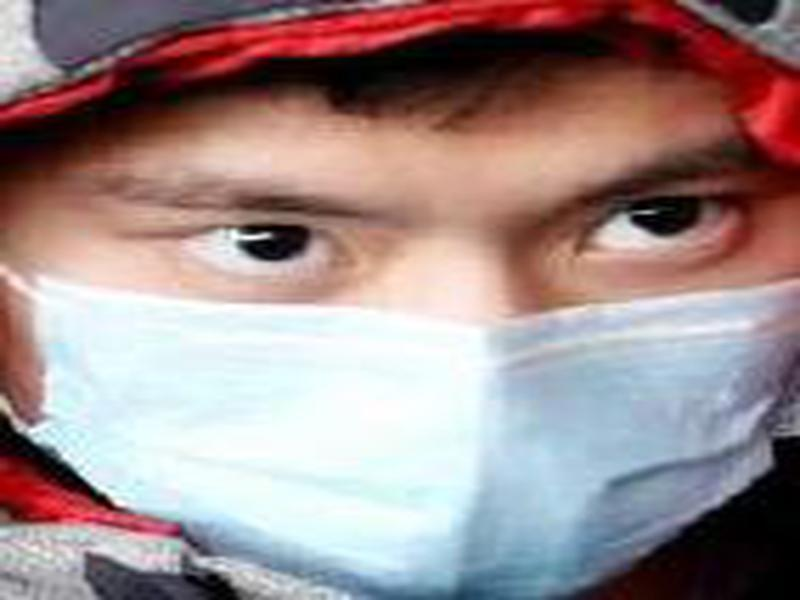with_mask: (1, 31, 796, 600)
